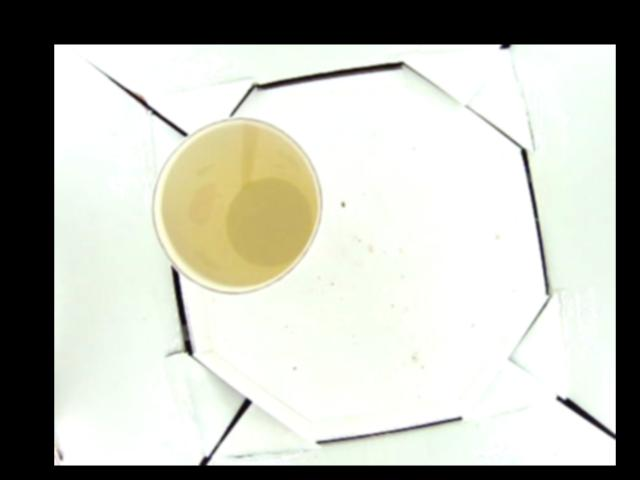Cup: (149, 116, 323, 294)
